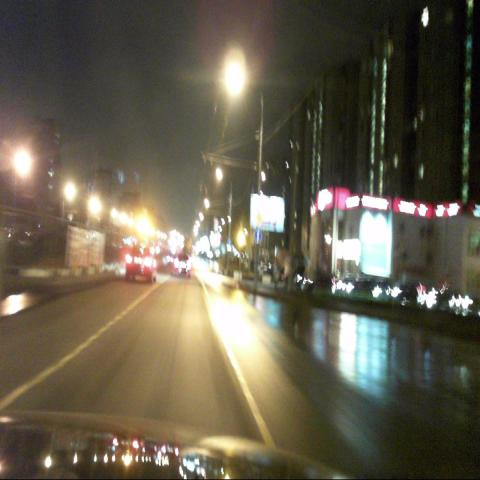2_1: (255, 212, 262, 225)
4_1_1: (254, 229, 262, 241)
